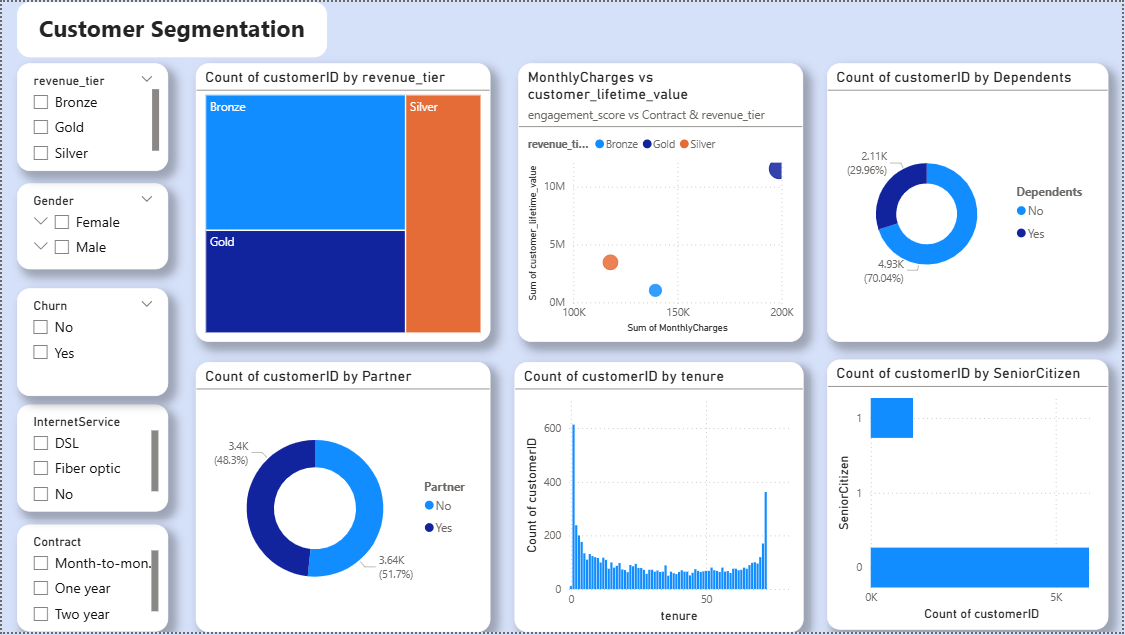

What the dashboard file says about the page in this screenshot:
{"tool":"powerbi","page":{"name":"Customer Segmentation","canvas":[1280,720],"ordinal":2},"visuals":[{"type":"slicer","fields":{"Values":["upgraded_customer_retention.gender","upgraded_customer_retention.SeniorCitizen","upgraded_customer_retention.Partner","upgraded_customer_retention.Dependents"]},"box":[17.1,207.1,172.9,98.6],"z":0},{"type":"treemap","fields":{"Group":["upgraded_customer_retention.revenue_tier"],"Values":["CountNonNull(upgraded_customer_retention.customerID)"]},"box":[221.4,70,337.1,318.6],"z":1000},{"type":"columnChart","fields":{"Category":["upgraded_customer_retention.tenure"],"Y":["CountNonNull(upgraded_customer_retention.customerID)"]},"box":[585.7,411.4,330,308.6],"z":2000},{"type":"donutChart","fields":{"Category":["upgraded_customer_retention.Partner"],"Y":["CountNonNull(upgraded_customer_retention.customerID)"]},"box":[221.4,411.4,337.1,308.6],"z":3000},{"type":"donutChart","fields":{"Y":["CountNonNull(upgraded_customer_retention.customerID)"],"Category":["upgraded_customer_retention.Dependents"]},"box":[942.9,70,321.4,318.6],"z":4000},{"type":"clusteredBarChart","fields":{"Category":["upgraded_customer_retention.SeniorCitizen"],"Y":["CountNonNull(upgraded_customer_retention.customerID)"]},"box":[942.9,408.6,321.4,308.6],"z":5000},{"type":"scatterChart","title":"MonthlyCharges vs customer_lifetime_value","fields":{"X":["Sum(upgraded_customer_retention.MonthlyCharges)"],"Y":["Sum(upgraded_customer_retention.customer_lifetime_value)"],"Series":["upgraded_customer_retention.revenue_tier"],"Size":["Sum(upgraded_customer_retention.engagement_score)"]},"box":[590,70,325.7,318.6],"z":6000},{"type":"slicer","fields":{"Values":["upgraded_customer_retention.Contract"]},"box":[17.6,597.1,172.6,122.3],"z":7000},{"type":"slicer","fields":{"Values":["upgraded_customer_retention.InternetService"]},"box":[17.6,460,172.6,122.3],"z":8000},{"type":"slicer","fields":{"Values":["upgraded_customer_retention.revenue_tier"]},"box":[17.1,70,172.9,122.9],"z":9000},{"type":"slicer","fields":{"Values":["upgraded_customer_retention.Churn"]},"box":[17.1,327.1,172.9,122.9],"z":10000},{"type":"textbox","box":[17.1,0,354.3,62.9],"z":10001}]}

Visuals, with their boxes in screenshot pixels (x1, y1, x2, y2), scaled from the page's 1280x720 canvas onto the 1125x635 screenshot:
slicer - upgraded_customer_retention.gender x upgraded_customer_retention.SeniorCitizen: left=15, top=183, right=167, bottom=270
treemap - upgraded_customer_retention.revenue_tier x CountNonNull(upgraded_customer_retention.customerID): left=195, top=62, right=491, bottom=343
columnChart - upgraded_customer_retention.tenure x CountNonNull(upgraded_customer_retention.customerID): left=515, top=363, right=805, bottom=634
donutChart - upgraded_customer_retention.Partner x CountNonNull(upgraded_customer_retention.customerID): left=195, top=363, right=491, bottom=634
donutChart - CountNonNull(upgraded_customer_retention.customerID) x upgraded_customer_retention.Dependents: left=829, top=62, right=1111, bottom=343
clusteredBarChart - upgraded_customer_retention.SeniorCitizen x CountNonNull(upgraded_customer_retention.customerID): left=829, top=360, right=1111, bottom=633
"MonthlyCharges vs customer_lifetime_value" scatterChart: left=519, top=62, right=805, bottom=343
slicer - upgraded_customer_retention.Contract: left=15, top=527, right=167, bottom=634
slicer - upgraded_customer_retention.InternetService: left=15, top=406, right=167, bottom=514
slicer - upgraded_customer_retention.revenue_tier: left=15, top=62, right=167, bottom=170
slicer - upgraded_customer_retention.Churn: left=15, top=288, right=167, bottom=397
textbox: left=15, top=0, right=326, bottom=55
